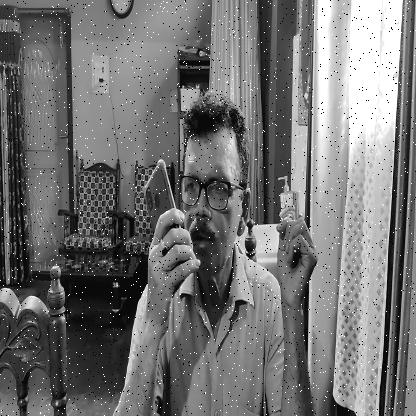Distracted: (187, 98, 256, 265)
